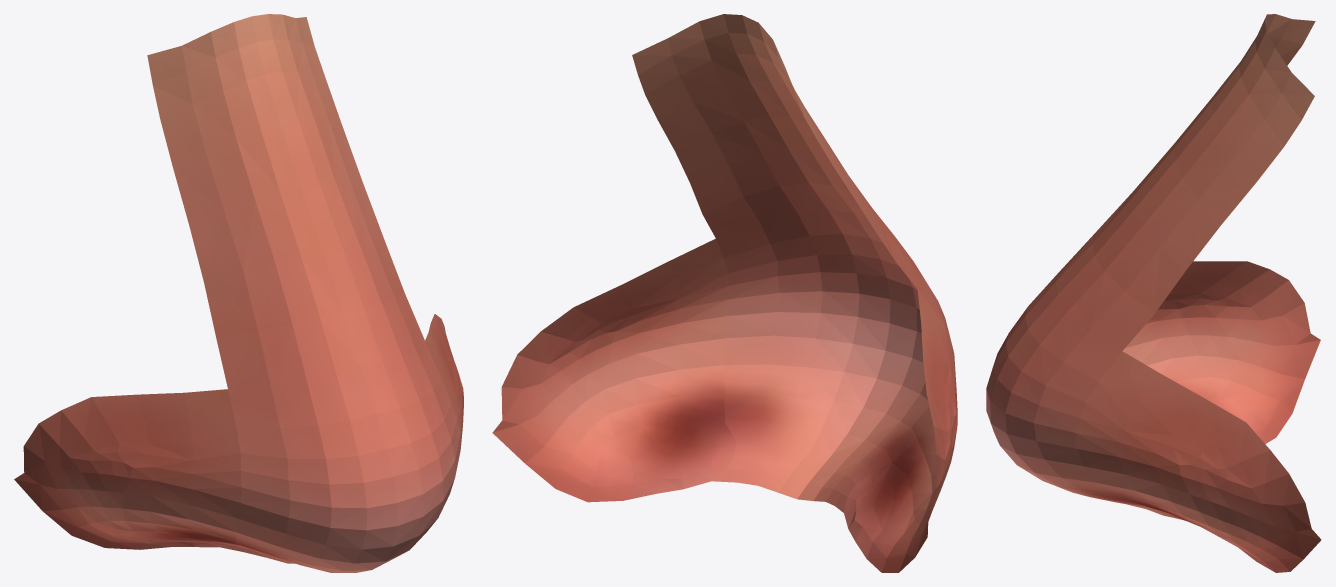
The model's file is euro-nose-sellion-shallow.obj.
3 views of the same model, side by side, from view 1: azimuth 30°, elevation 25°; view 2: azimuth 150°, elevation 25°; view 3: azimuth 270°, elevation 25° (orthographic). The views are drawn at different scales.
Visible parts, largest first — view 1: euro-nose-sellion-sha.001; view 2: euro-nose-sellion-sha.001; view 3: euro-nose-sellion-sha.001.
Part boxes in pixels (<box>): euro-nose-sellion-sha.001: <box>14,14,463,572</box>; euro-nose-sellion-sha.001: <box>492,14,957,572</box>; euro-nose-sellion-sha.001: <box>986,14,1321,572</box>.
Bounding box in the file's own units: 0.3536 × 0.4079 × 0.2526.
Materials: 1 (1 with a texture image).
